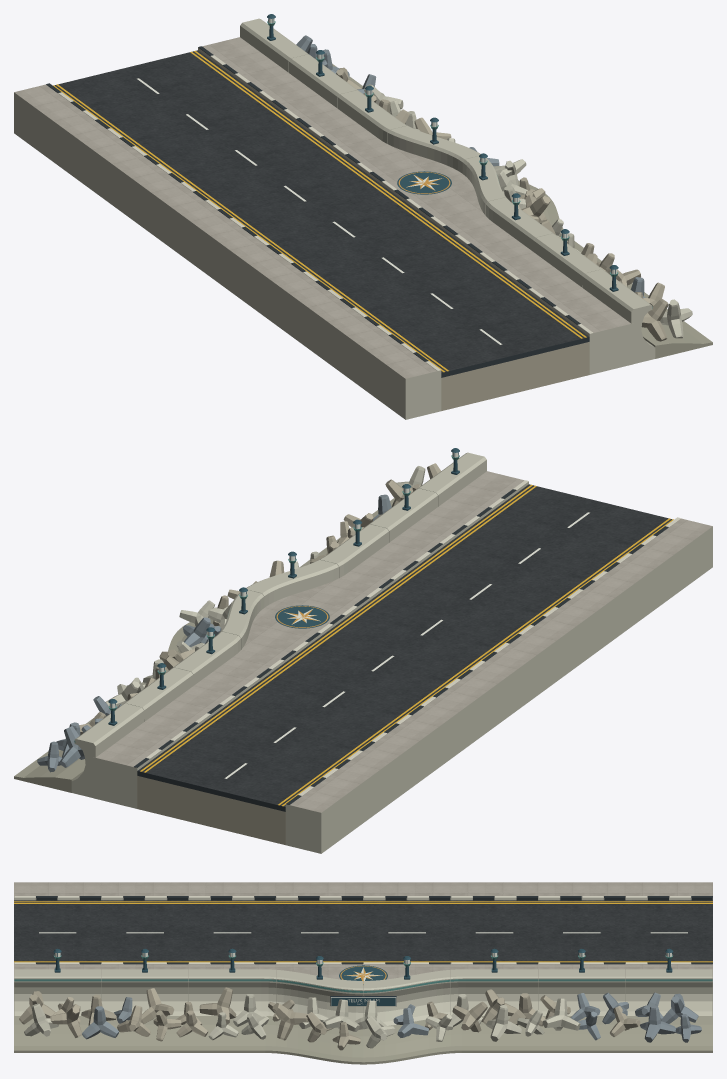
3 views of the same model, one above another, from view 1: azimuth 30°, elevation 25°; view 2: azimuth 150°, elevation 25°; view 3: azimuth 270°, elevation 25° (orthographic). The views are drawn at different scales.
Visible parts, largest first — view 1: Carriageway, Inland pavement, Promenade base, Recurved spray deflectors, Interlocking wave armour, Roadbed and cut edge, Double yellow lines, Kerb blocks, Lookout floor extension, Granite foreshore, Compass roundel; view 2: Carriageway, Inland pavement, Promenade base, Recurved spray deflectors, Interlocking wave armour, Roadbed and cut edge, Double yellow lines, Kerb blocks, Lookout floor extension, Granite foreshore, Compass roundel; view 3: Carriageway, Recurved spray deflectors, Interlocking wave armour, Granite foreshore, Inland pavement, Kerb blocks, Promenade base, Double yellow lines, Sea green coping band, Seawall tile panel, Centre dashes, Compass roundel (+1 smaller).
Part boxes in pixels (x1,y1,x2,y2): Carriageway: [54, 50, 589, 377]; Inland pavement: [14, 84, 441, 419]; Promenade base: [198, 37, 630, 374]; Recurved spray deflectors: [240, 18, 655, 363]; Interlocking wave armour: [296, 35, 692, 341]; Roadbed and cut edge: [441, 342, 589, 410]; Double yellow lines: [53, 50, 586, 372]; Kerb blocks: [46, 46, 592, 370]; Lookout floor extension: [239, 37, 633, 364]; Granite foreshore: [332, 64, 712, 358]; Compass roundel: [397, 171, 451, 194]; Carriageway: [137, 484, 672, 811]; Inland pavement: [285, 518, 712, 853]; Promenade base: [96, 471, 528, 808]; Recurved spray deflectors: [71, 452, 486, 797]; Interlocking wave armour: [37, 463, 440, 772]; Roadbed and cut edge: [137, 776, 285, 844]; Double yellow lines: [140, 484, 673, 806]; Kerb blocks: [134, 480, 680, 804]; Lookout floor extension: [93, 471, 487, 798]; Granite foreshore: [14, 498, 394, 792]; Compass roundel: [275, 605, 329, 628]; Carriageway: [14, 900, 712, 961]; Recurved spray deflectors: [14, 969, 712, 1025]; Interlocking wave armour: [19, 987, 701, 1050]; Granite foreshore: [14, 1016, 712, 1064]; Inland pavement: [14, 882, 712, 900]; Kerb blocks: [14, 896, 712, 964]; Promenade base: [14, 963, 712, 979]; Double yellow lines: [14, 901, 712, 962]; Sea green coping band: [14, 979, 712, 992]; Seawall tile panel: [330, 996, 396, 1006]; Centre dashes: [39, 932, 687, 933]; Compass roundel: [339, 965, 387, 985].
Bounding box in the file's own units: 15.77 × 3.57 × 32.
Materials: 16 (2 with a texture image).
